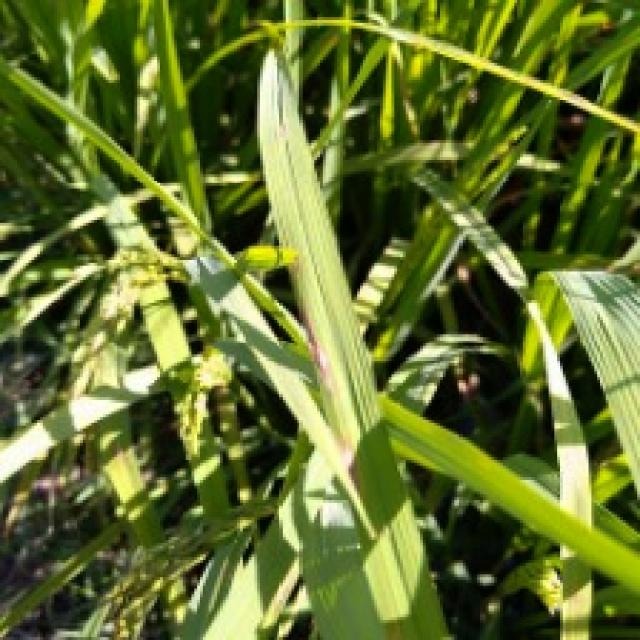Unhealthy: (300, 309, 333, 396), (336, 437, 361, 496), (288, 261, 306, 280)
